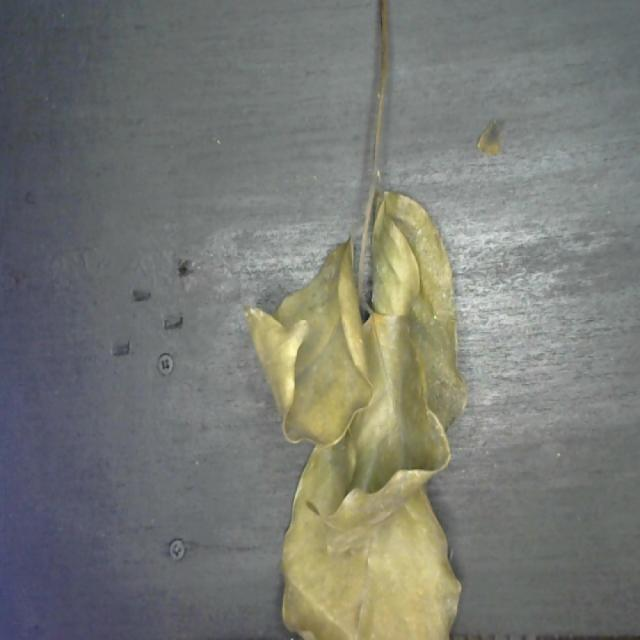biodegradable: (241, 184, 463, 640)
